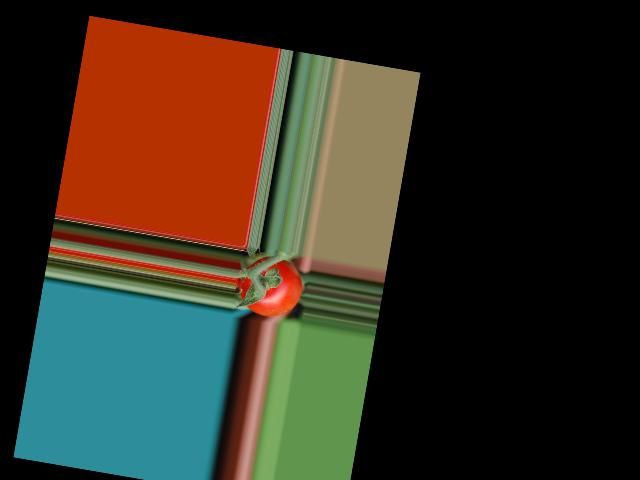tomato: (232, 251, 306, 321)
